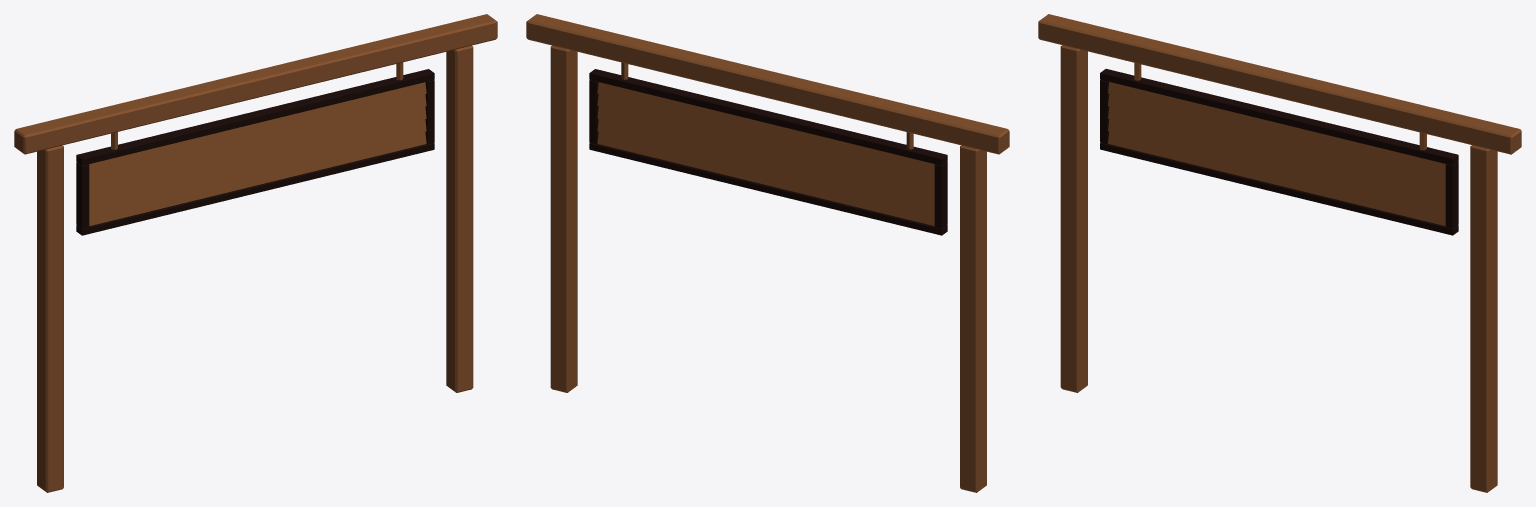
File: ww_welcome_sign.glb
3 renders of one model, left to right at view 1: azimuth 30°, elevation 25°; view 2: azimuth 150°, elevation 25°; view 3: azimuth 330°, elevation 25°, orthographic.
Parts seen in each view (by area): view 1: Welcome_Sign; view 2: Welcome_Sign; view 3: Welcome_Sign.
Boxes of the visible parts, bbox=[...] form: Welcome_Sign: bbox=[14, 14, 497, 492]; Welcome_Sign: bbox=[526, 14, 1009, 492]; Welcome_Sign: bbox=[1038, 14, 1521, 492].
Bounding box in the file's own units: 11.3 × 8.26 × 0.4372.
